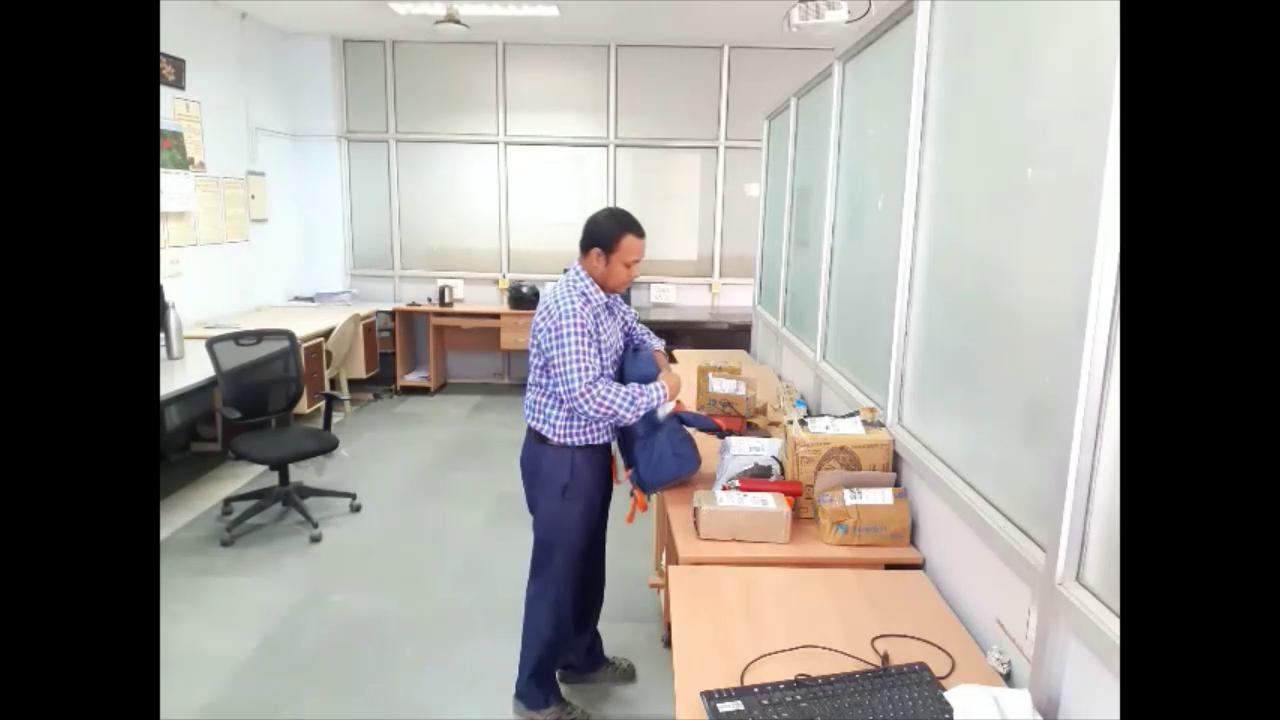shoplifting: (504, 202, 705, 720)
